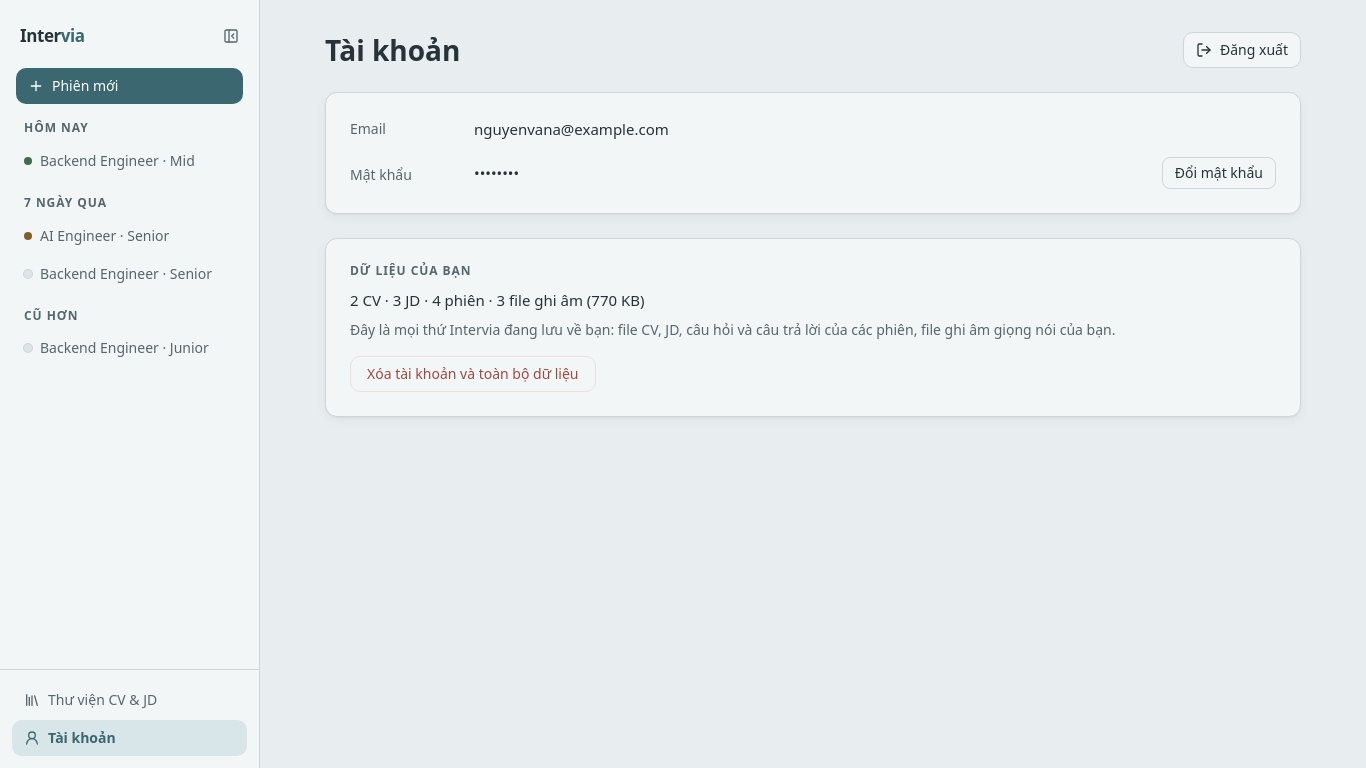
Test: Account page (UI-11.2) › logs out: drafts gone, back to /login, nothing cached
Click the button "Đăng xuất". click: x=1242, y=50
box: [1183, 32, 1301, 68]
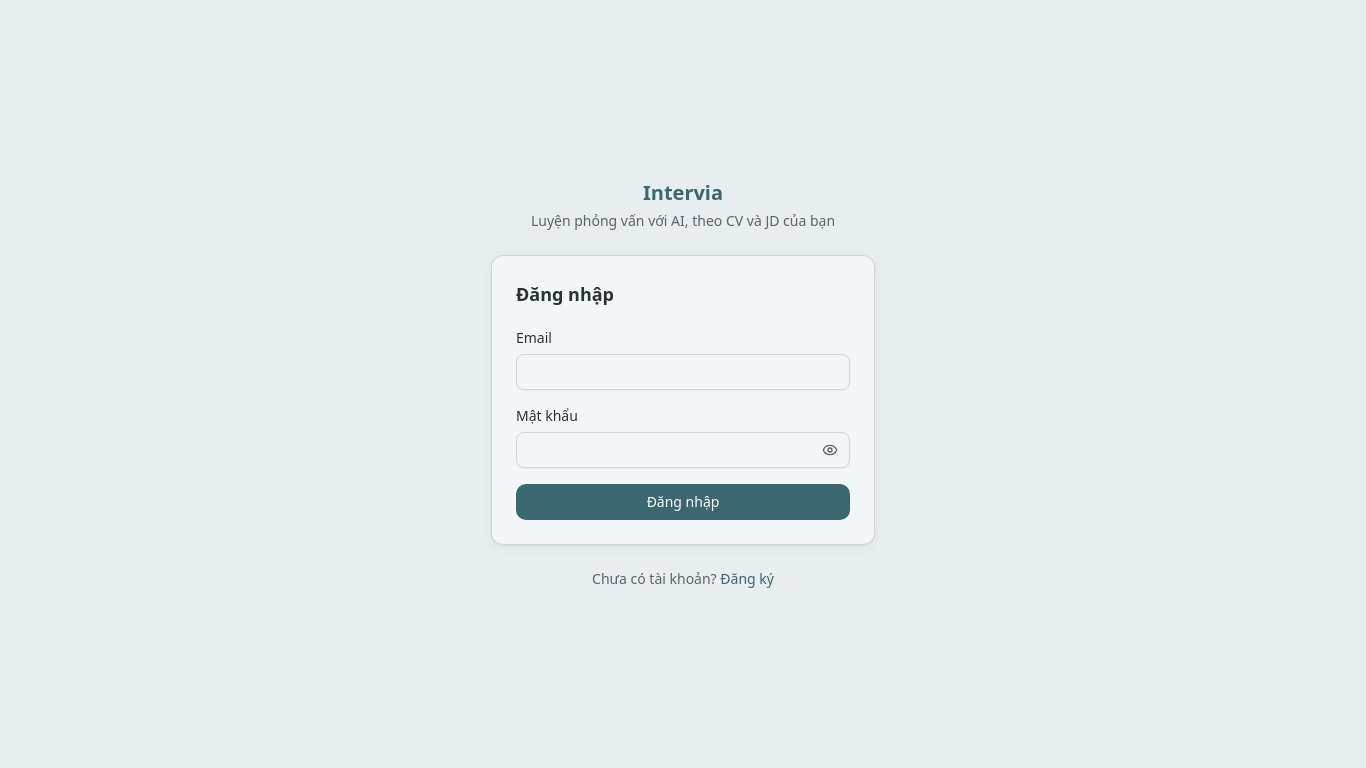
Expected: the heading "Đăng nhập" is shown, [516, 282, 614, 306]
